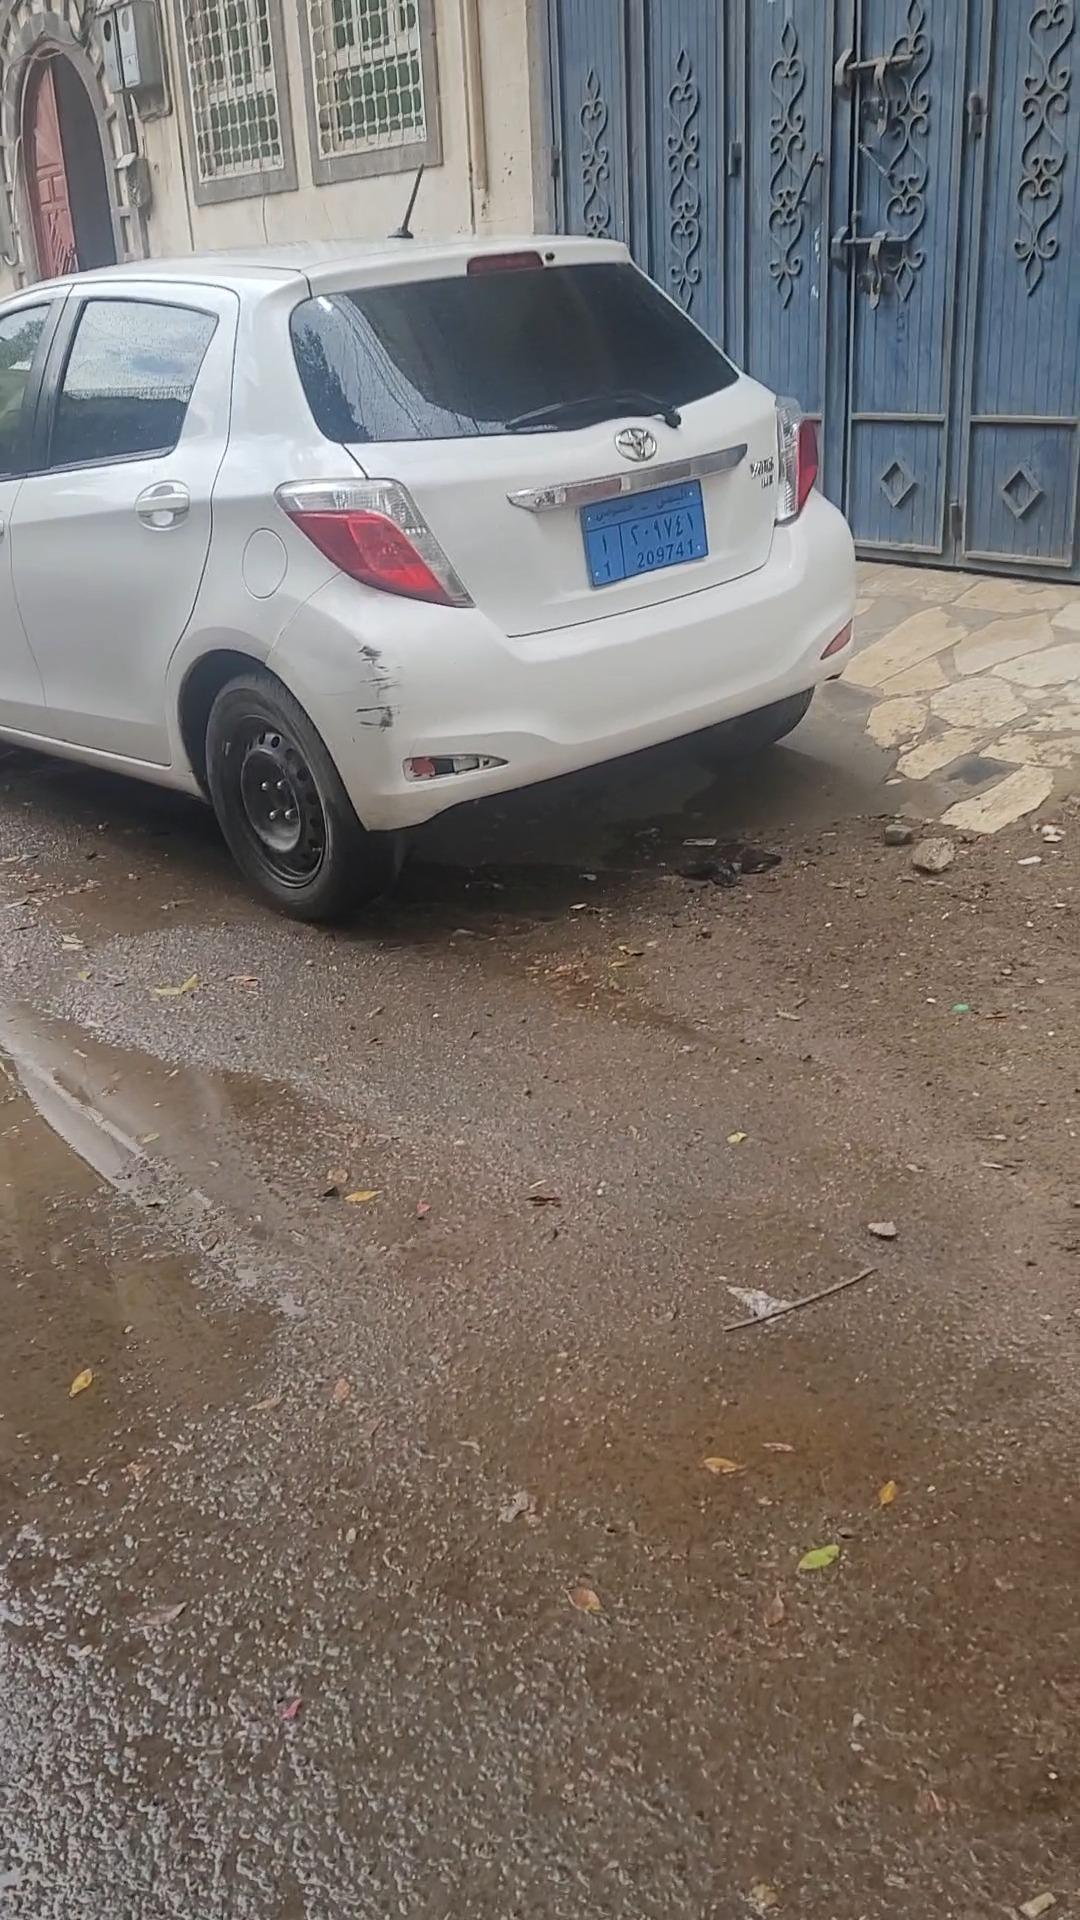privte: (583, 480, 709, 587)
